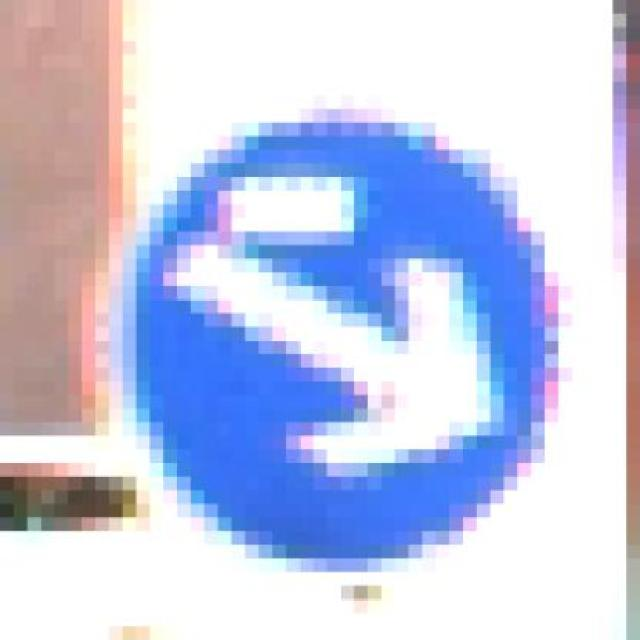Keep-Right: (95, 82, 599, 600)
